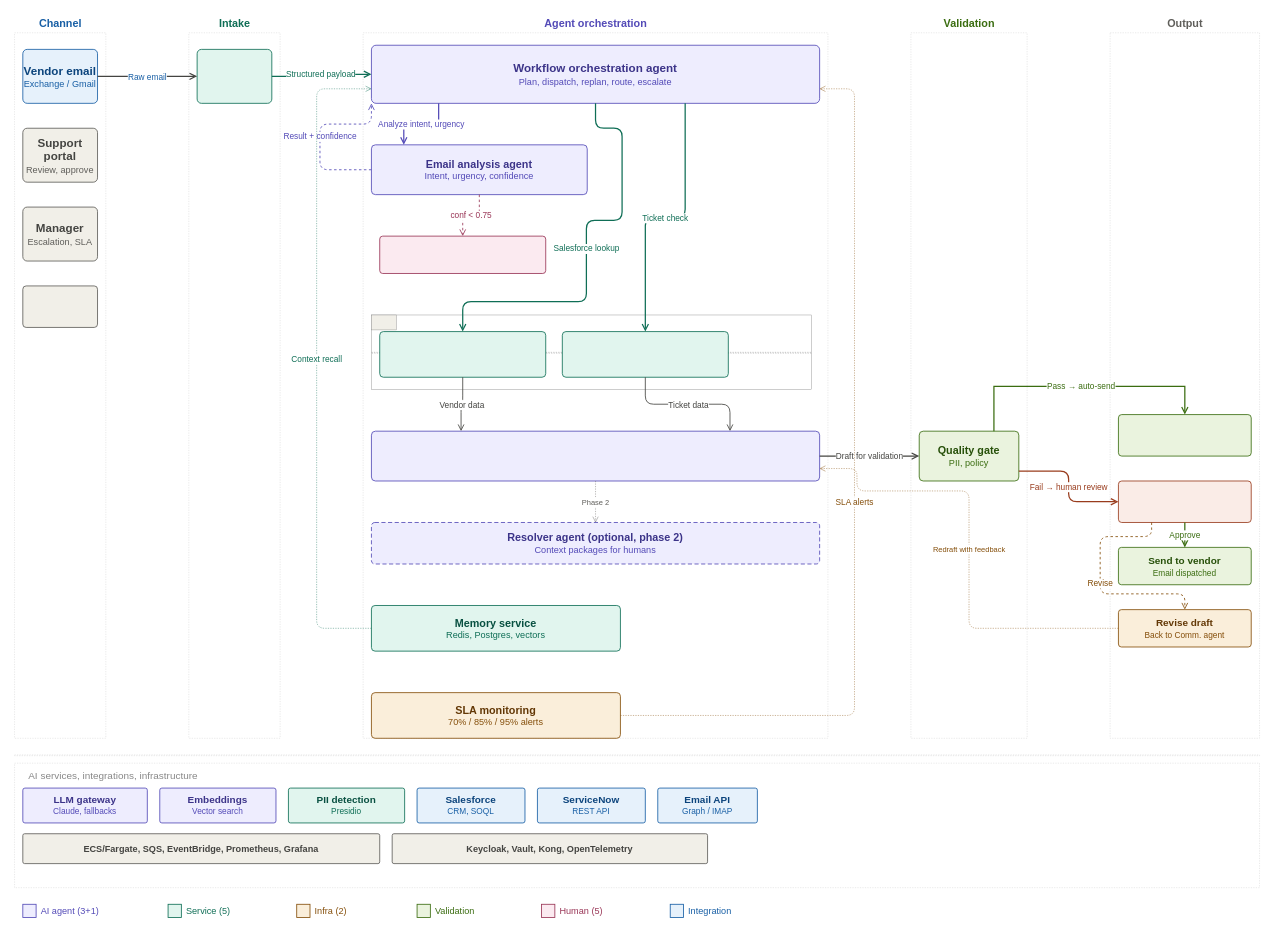
Some shapes in this 1274 by 932 pixel diagram are drawn without their labels. Here are the shapes that lost their labels. From the top down, the centre of each, then its label:
At (x=234, y=76): "Email ingestion Service".
At (x=462, y=254): "Human triage".
At (x=60, y=306): "Admin".
At (x=383, y=322): "par".
At (x=462, y=354): "Vendor lookup Salesforce 3-step".
At (x=644, y=354): "Ticket ops ServiceNow CRUD".
At (x=595, y=455): "Communication drafting agent Tone, templates, thread continuity".
At (x=1184, y=435): "Auto-send".
At (x=1184, y=501): "Human review".
